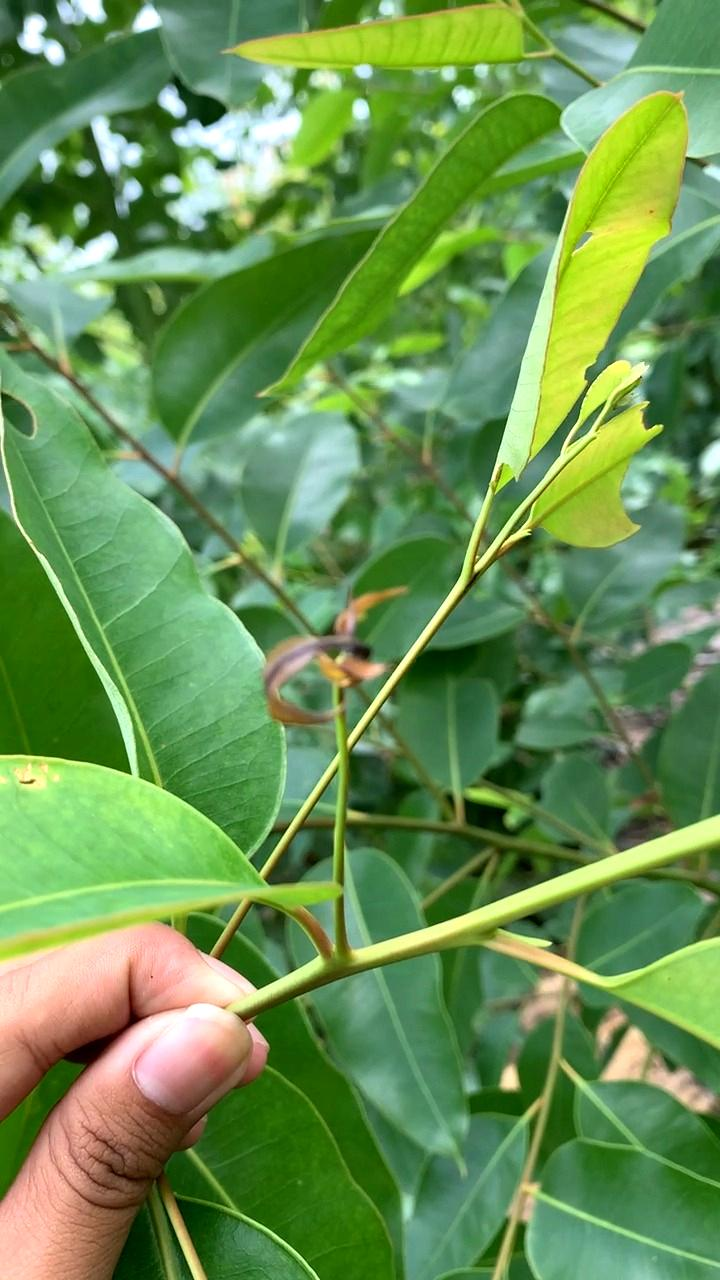Helopeltis-Withered Sprout: (246, 583, 409, 725)
